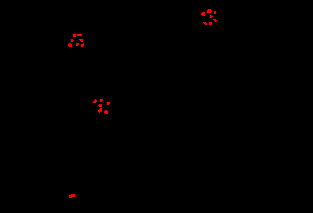Target: (69, 194, 75, 198), (207, 9, 212, 13), (98, 108, 102, 113), (201, 12, 205, 16), (68, 43, 72, 47), (93, 99, 97, 103), (104, 110, 108, 114), (213, 19, 217, 22), (203, 22, 207, 25), (79, 39, 83, 42), (81, 43, 84, 47), (98, 104, 102, 107), (77, 34, 82, 36), (210, 15, 213, 18), (209, 22, 212, 25), (73, 34, 76, 37), (71, 39, 74, 42), (76, 43, 79, 46), (100, 99, 103, 102), (107, 102, 110, 105), (214, 11, 216, 14)
